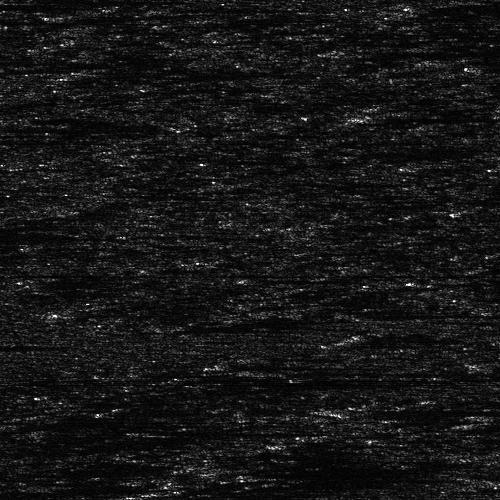object: (288, 397, 413, 422), (396, 415, 500, 432), (429, 407, 500, 424), (352, 111, 435, 122), (64, 65, 137, 76), (0, 113, 34, 136), (206, 473, 289, 482), (222, 367, 327, 374), (389, 164, 452, 169), (405, 395, 458, 400), (205, 362, 246, 367), (389, 279, 442, 282), (335, 50, 366, 53), (0, 0, 35, 2), (107, 499, 170, 500)
shadow: (351, 397, 500, 422), (0, 113, 111, 136), (100, 65, 309, 76), (275, 367, 490, 374), (247, 473, 388, 482), (394, 111, 500, 122), (226, 362, 367, 367), (463, 415, 500, 432), (351, 50, 499, 53), (421, 164, 496, 169), (0, 343, 53, 350), (432, 395, 500, 400), (4, 0, 142, 2), (416, 279, 490, 282), (139, 499, 274, 500), (0, 356, 21, 361)
